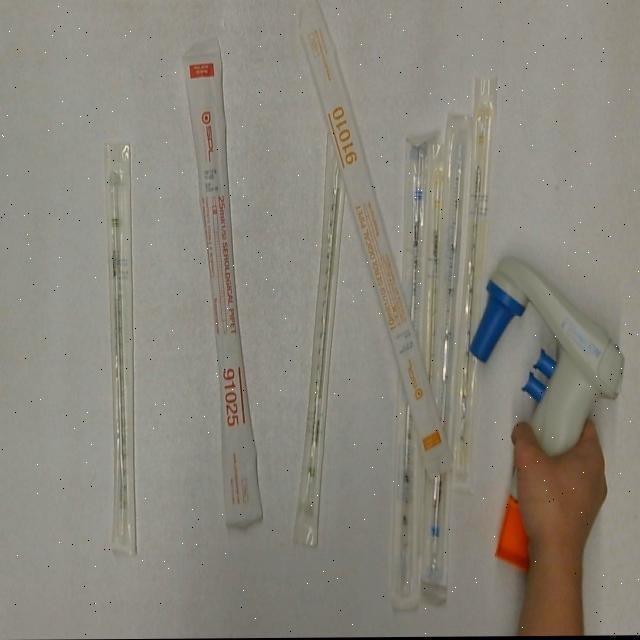Pipette Controller: (470, 255, 626, 578)
Serelogical Pipet 1 mL - Sealed: (449, 76, 503, 491), (417, 142, 454, 394)
Serelogical Pipet 10 mL - Sealed: (296, 0, 458, 483)
Serelogical Pipet 2 mL - Sealed: (287, 125, 358, 551), (106, 140, 139, 559)
Serelogical Pipet 25 mL - Sealed: (182, 34, 265, 533)
Serelogical Pipet 5 mL - Sealed: (420, 111, 476, 590), (389, 126, 435, 608)
